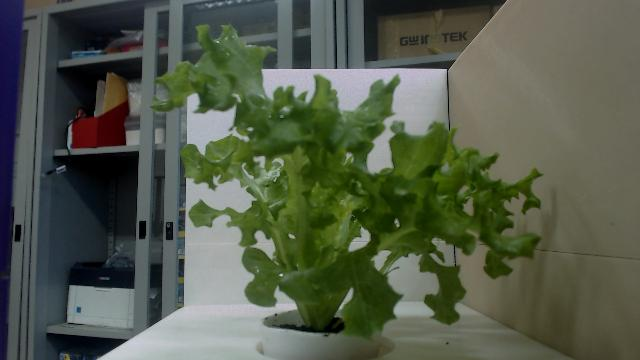Harvest Stage: (150, 23, 546, 341)
